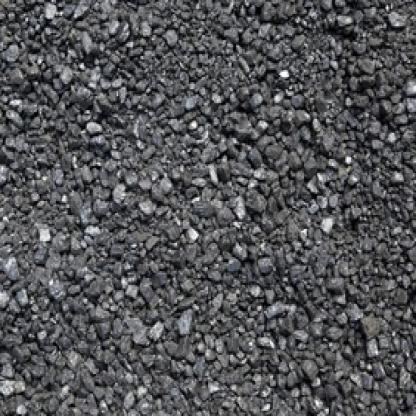Sedimentary_coal: (59, 107, 83, 136), (356, 310, 378, 338), (0, 327, 24, 349), (174, 306, 193, 332), (266, 138, 284, 163), (146, 182, 167, 203), (76, 33, 94, 54), (65, 294, 84, 313), (7, 66, 22, 86), (94, 318, 108, 337), (406, 241, 414, 266)
